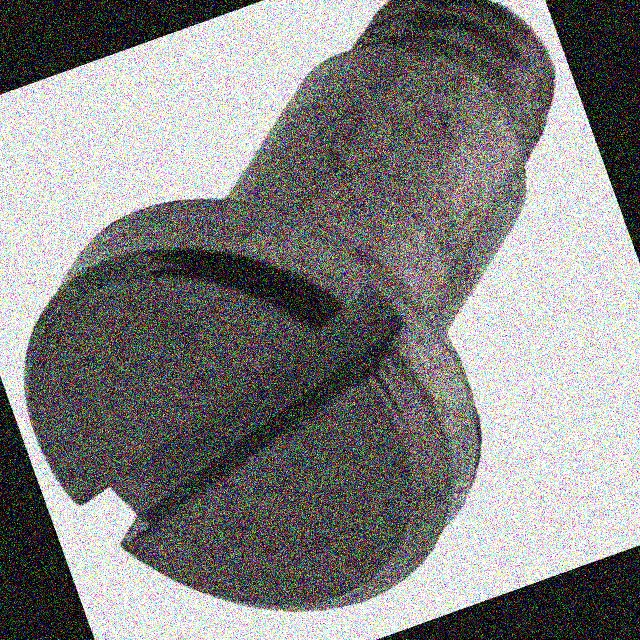duz: (0, 121, 528, 640)
